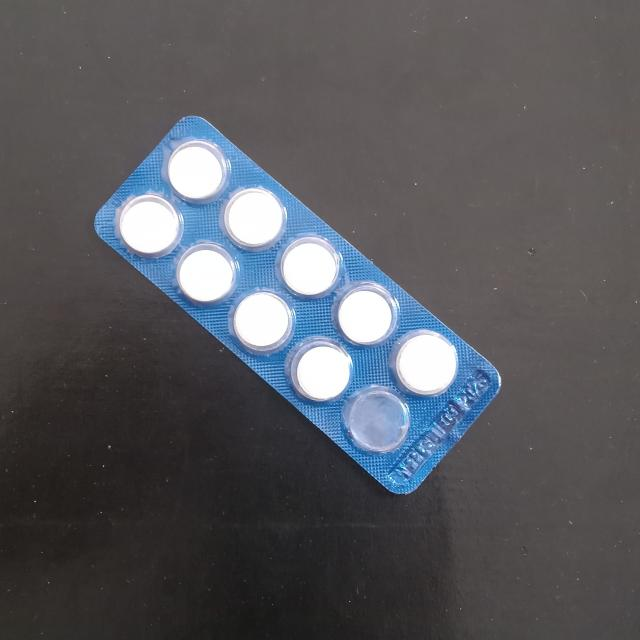defect: (346, 390, 410, 455)
